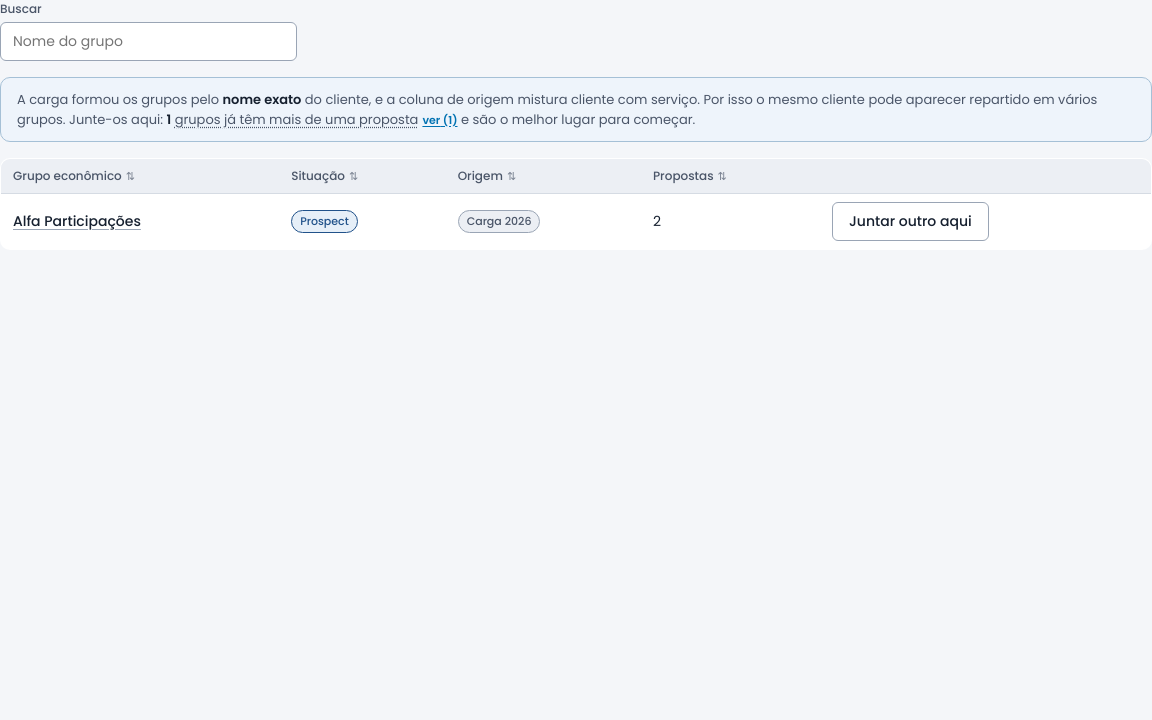
Scenario: Grupos › lista os grupos e abre o detalhe ao clicar no nome
Click the button "Alfa Participações": (77, 222) [13,211,141,232]
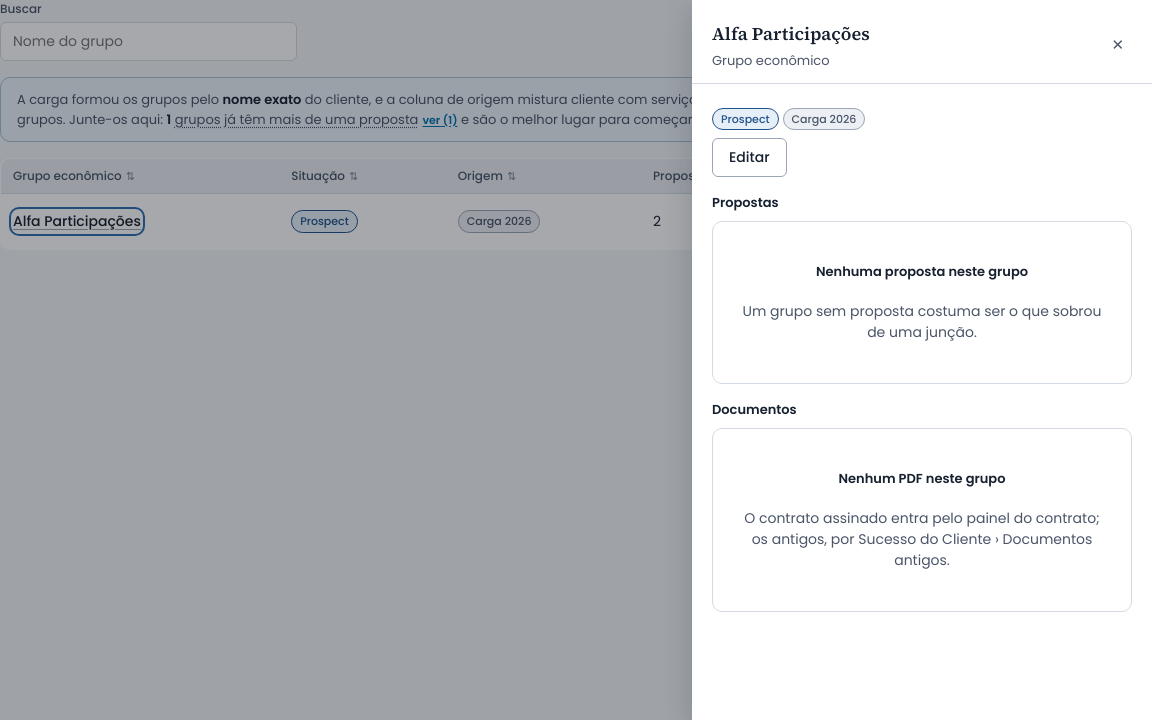
Check: the heading "Alfa Participações" is shown, box [712,20,870,47]
Check: the text "Grupo econômico" is shown, box [712,51,830,70]
Check: the button "Editar" is shown, box [712,138,787,177]
